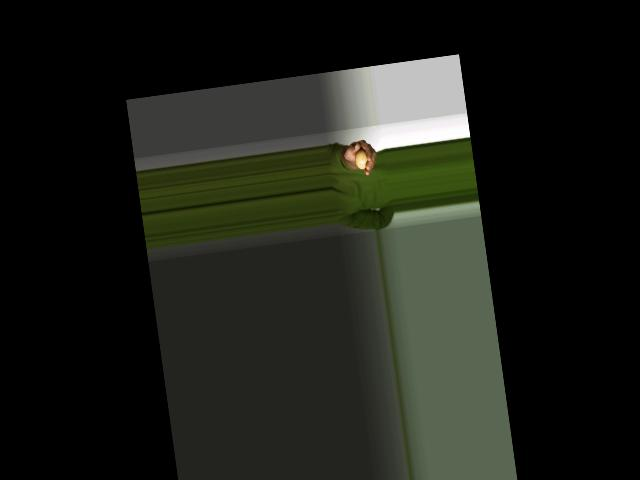egg: (354, 148, 369, 170)
